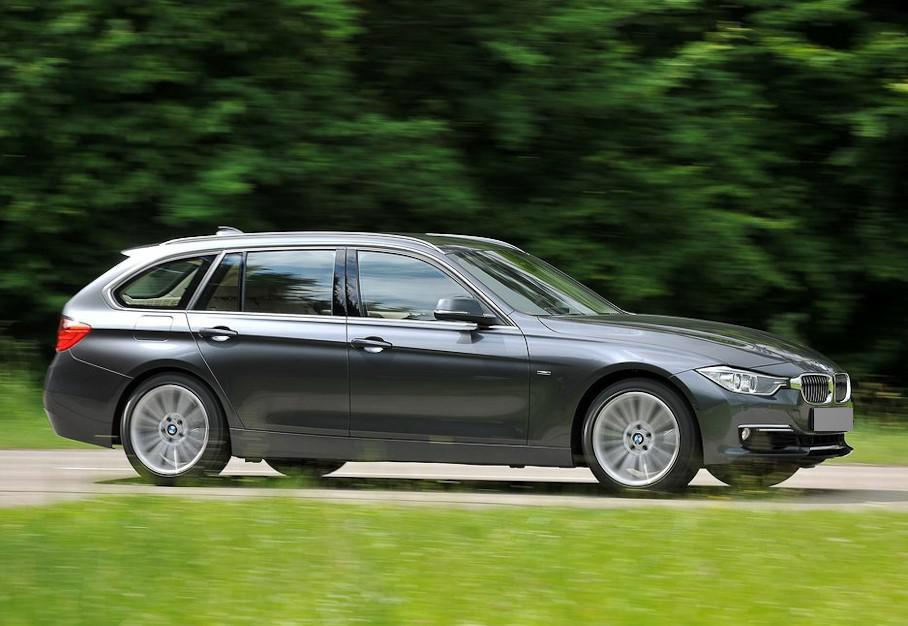Wagon: (44, 223, 854, 496)
